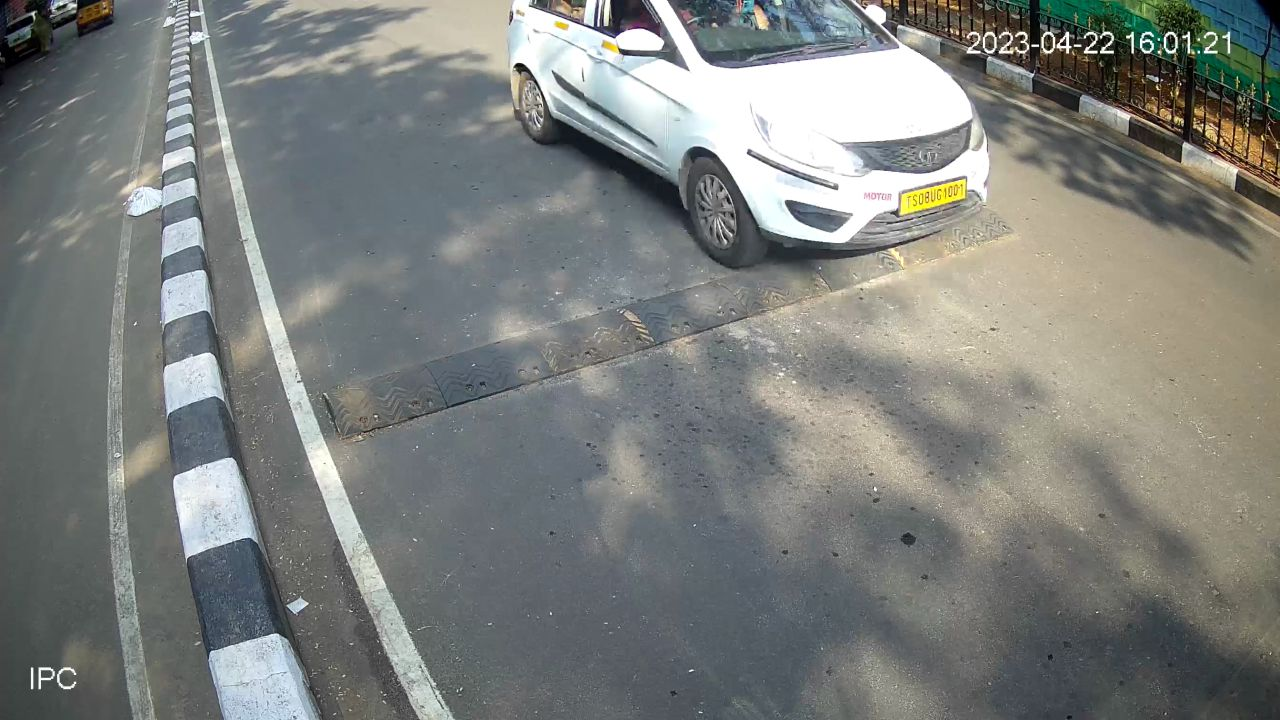license_plate: (898, 174, 975, 221)
